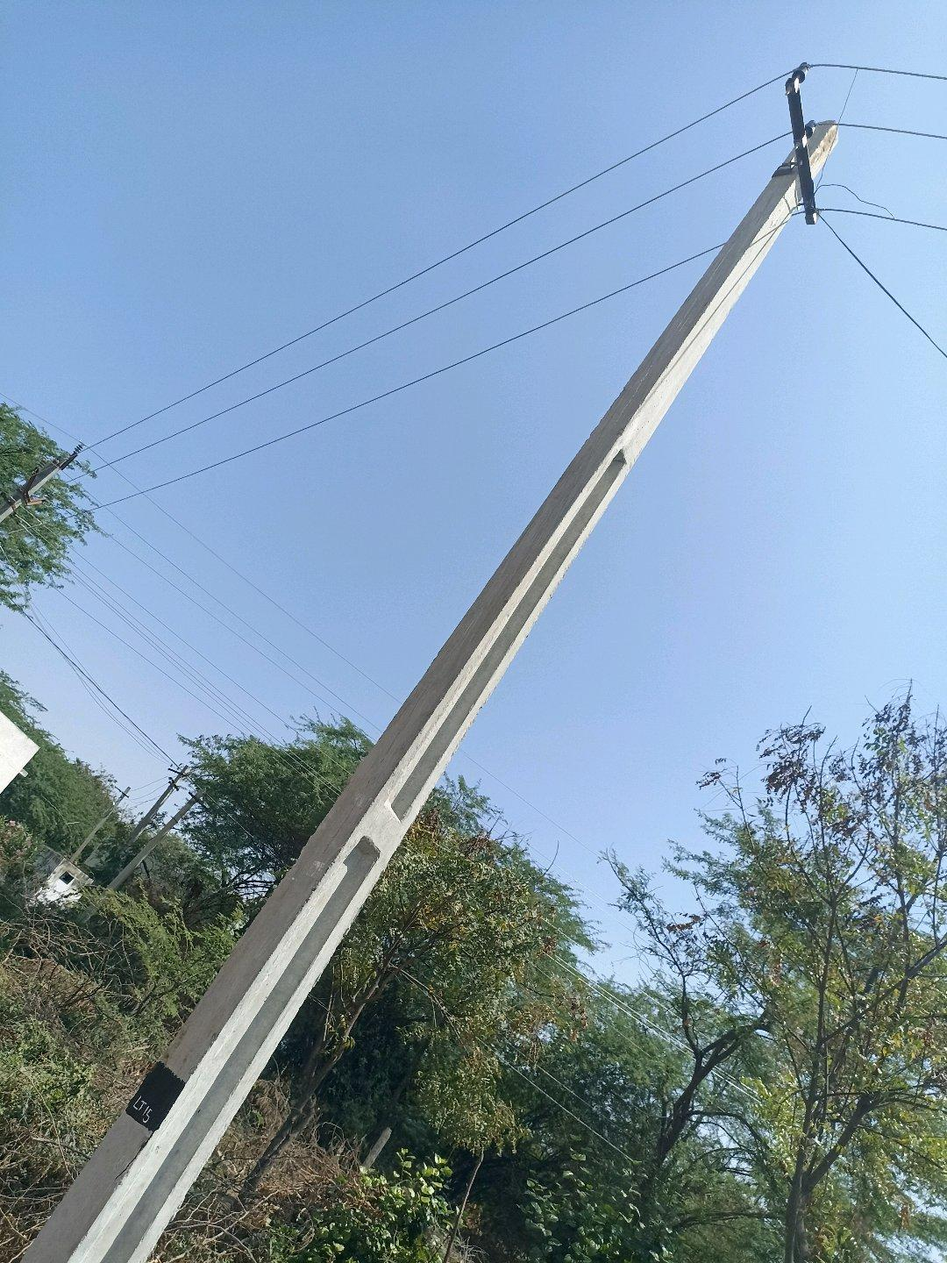{"0" "insulator", "1" "pole", "2" "crossarm", "3" "conductor", "4" "street_: (23, 64, 836, 1262)
